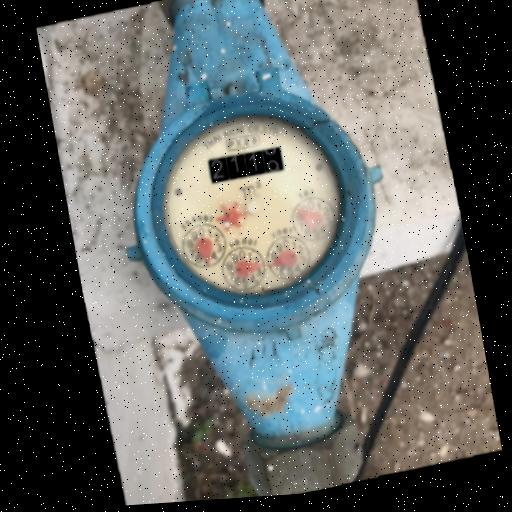1: (227, 153, 248, 180), (245, 150, 265, 176)
2: (208, 156, 231, 184)
8: (262, 147, 285, 173)
border_water_meter_number: (206, 145, 286, 185)
